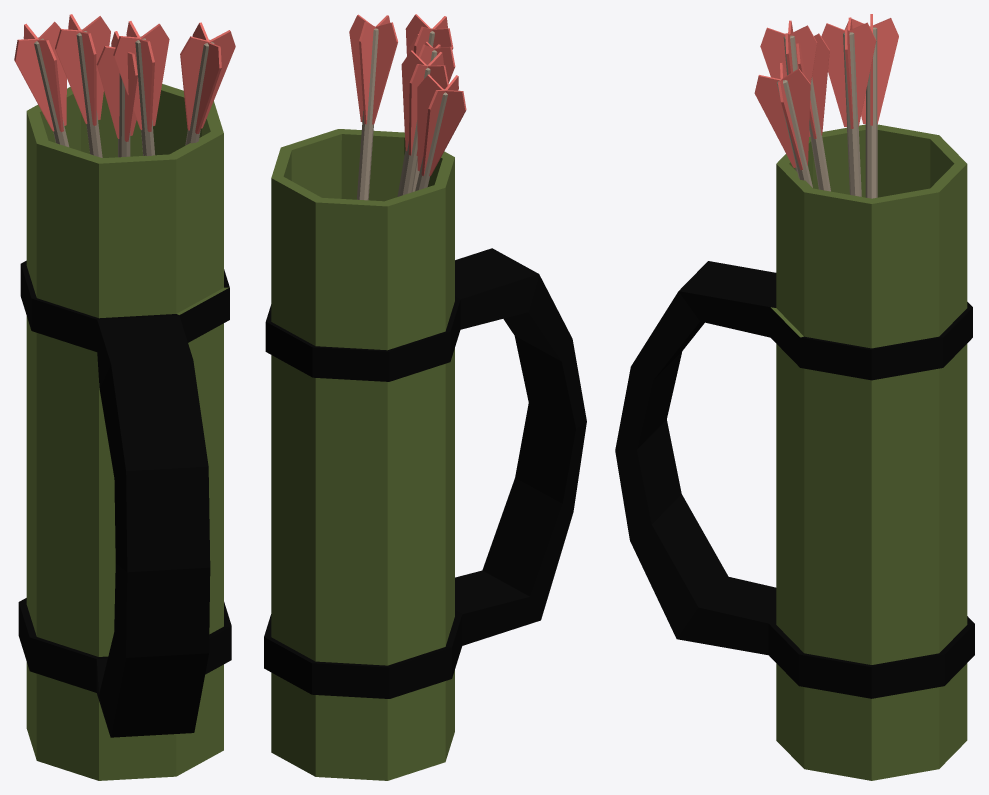
File: Arrow.fbx
3 views of the same model, side by side, from view 1: azimuth 30°, elevation 25°; view 2: azimuth 150°, elevation 25°; view 3: azimuth 270°, elevation 25° (orthographic). The views are drawn at different scales.
Visible parts, largest first — view 1: Arrow bag.001; view 2: Arrow bag.001; view 3: Arrow bag.001.
Boxes of the visible parts, x1,y1,x2,y2 form: Arrow bag.001: (14,14,235,780); Arrow bag.001: (264,14,586,780); Arrow bag.001: (615,14,974,780).
Bounding box in the file's own units: 72.8 × 243 × 113.
